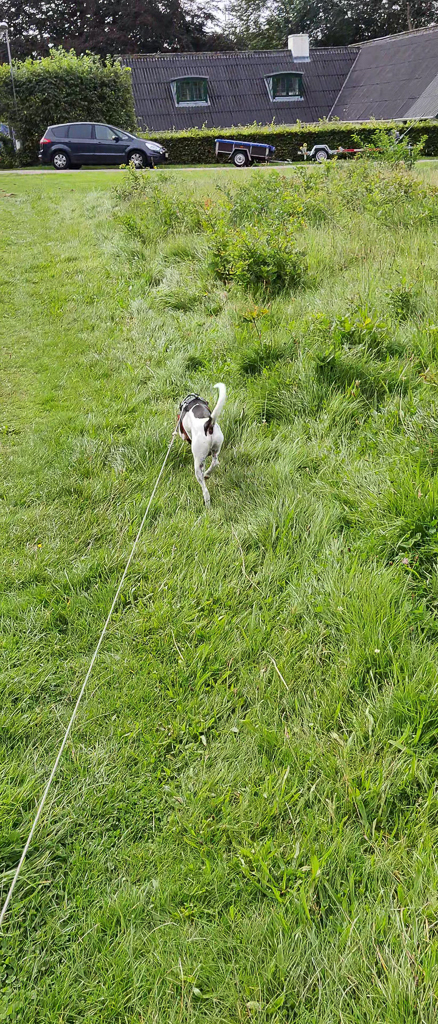Dog: (157, 376, 256, 520)
